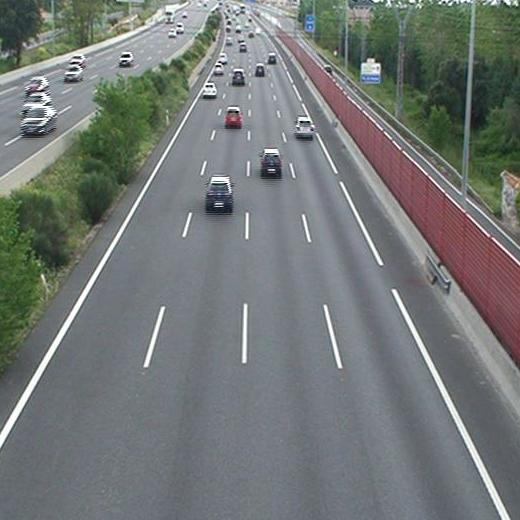car: (206, 177, 233, 208), (261, 149, 282, 173), (295, 117, 315, 137), (226, 108, 242, 127), (232, 69, 245, 85), (204, 83, 217, 96), (213, 63, 223, 74), (238, 42, 248, 53), (256, 64, 265, 76), (267, 53, 276, 64), (218, 54, 227, 63)
